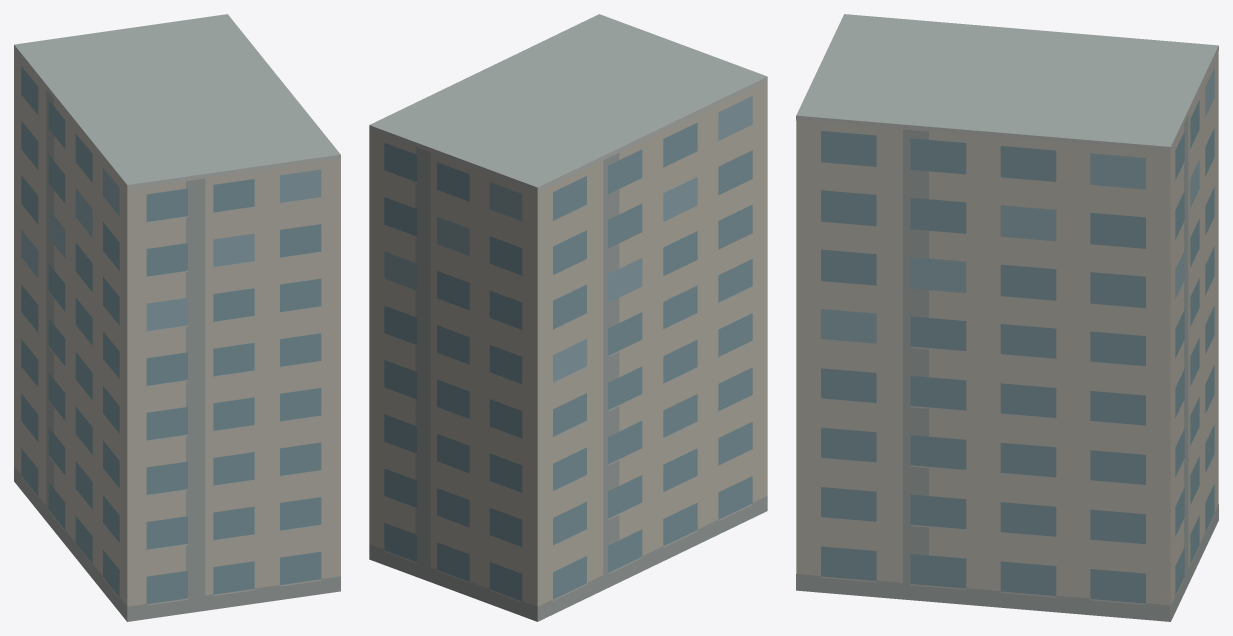
File: survey-upis-32784929.glb
3 renders of one model, left to right at view 1: azimuth 30°, elevation 25°; view 2: azimuth 150°, elevation 25°; view 3: azimuth 270°, elevation 25°, orthographic. The views are drawn at different scales.
Visible parts, largest first — view 1: survey-upis-32784929.tmp; view 2: survey-upis-32784929.tmp; view 3: survey-upis-32784929.tmp.
Part boxes in pixels (bbox=[...]): survey-upis-32784929.tmp: bbox=[14, 14, 340, 621]; survey-upis-32784929.tmp: bbox=[369, 14, 767, 621]; survey-upis-32784929.tmp: bbox=[796, 14, 1218, 621].
Bounding box in the file's own units: 14.18 × 23.6 × 19.04.
